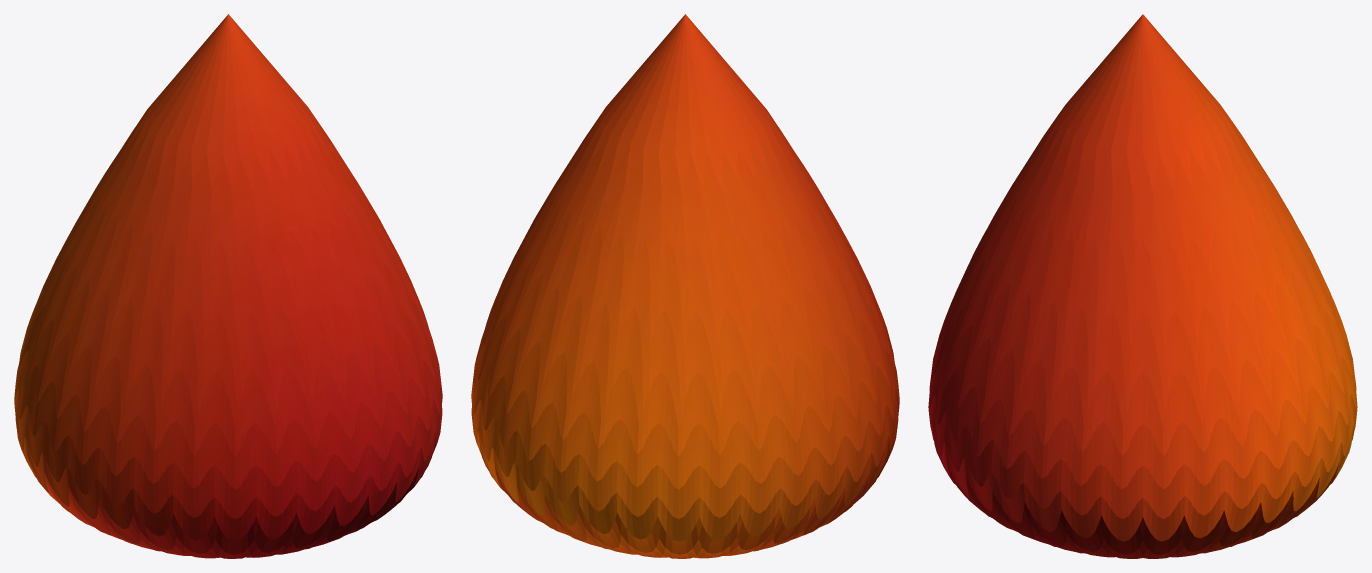
Rendered from Torch.obj.
3 views of the same model, side by side, from view 1: azimuth 30°, elevation 25°; view 2: azimuth 150°, elevation 25°; view 3: azimuth 270°, elevation 25° (orthographic).
Parts seen in each view (by area): view 1: Cone; view 2: Cone; view 3: Cone.
Part boxes in pixels (bbox=[...]): Cone: bbox=[14, 14, 442, 558]; Cone: bbox=[471, 14, 899, 558]; Cone: bbox=[928, 14, 1357, 558].
Bounding box in the file's own units: 1.28 × 1.72 × 1.28.
Materials: 1 (1 with a texture image).
